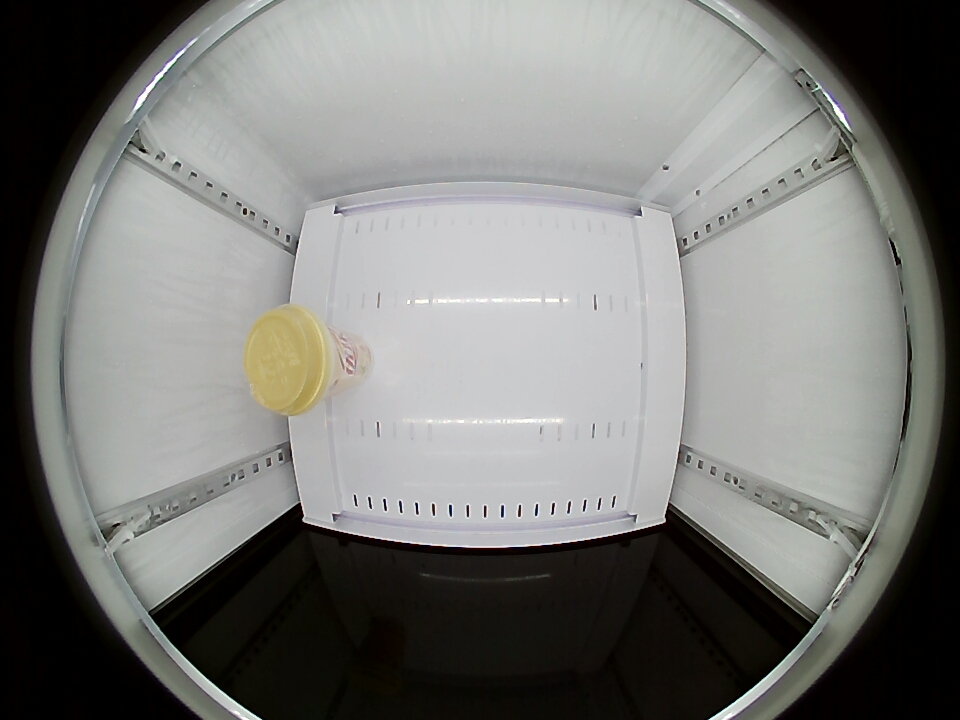youlemei: (244, 306, 341, 416)
